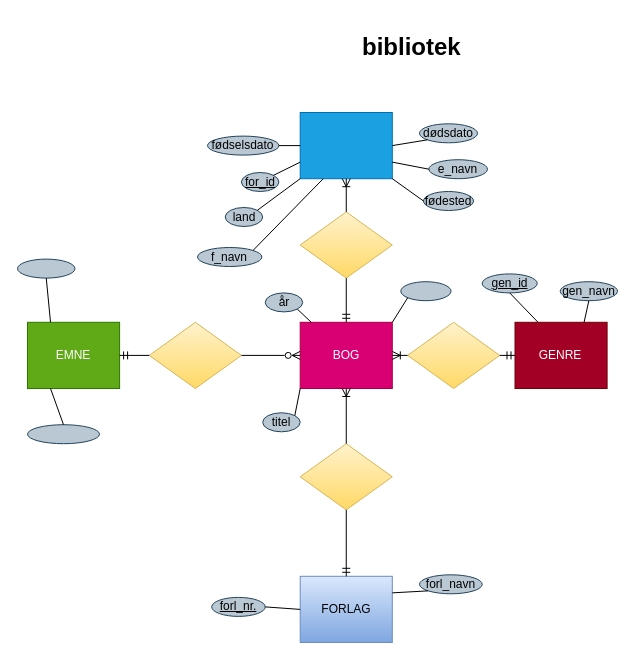
The diagram is 635 pixels wide and 660 high, and some of its shapes have lost their labels. The shapes that lost their labels are listed below. From the top down, each one's box as (x1, y1, x2, y2) in pixels, then its label:
(299, 112, 392, 179): FORFATTER
(299, 211, 392, 278): skrevet af
(16, 258, 75, 278): emne_nr
(400, 281, 451, 301): bod_id
(148, 321, 241, 388): handler om
(407, 321, 500, 388): Tilhører
(26, 424, 100, 444): emne_navn
(299, 443, 392, 510): Har udgivet
